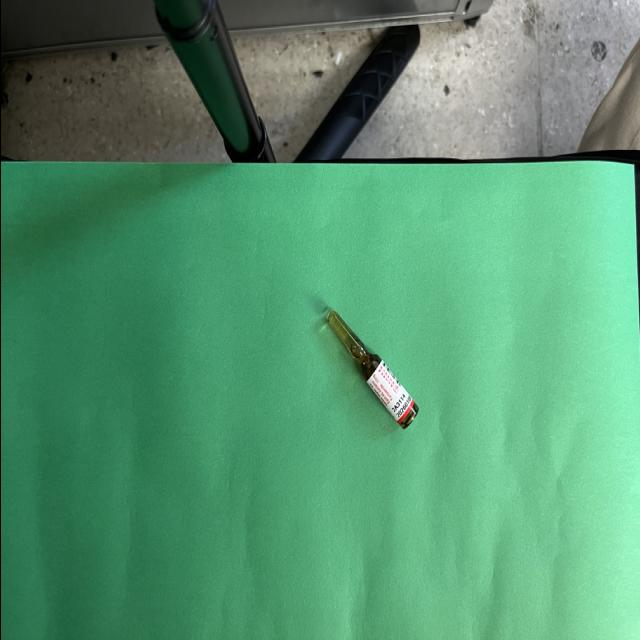Ampoules: (328, 311, 418, 429)
